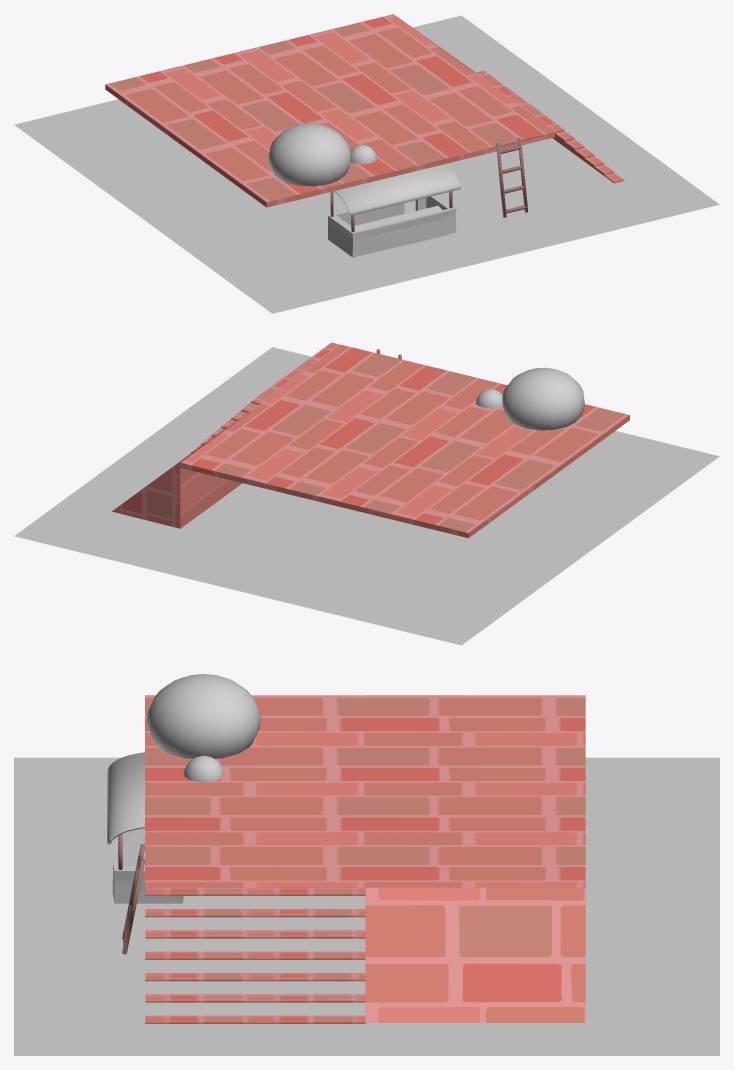
Rendered from TestLevelGround000.dae.
The picture shows the model from 3 angles, top to bottom: view 1: azimuth 30°, elevation 25°; view 2: azimuth 150°, elevation 25°; view 3: azimuth 270°, elevation 25°; orthographic projection. The views are drawn at different scales.
Visible parts, largest first — view 1: Bathtub; view 2: Bathtub; view 3: Bathtub.
Part boxes in pixels (<box>): Bathtub: <box>14,14,719,313</box>; Bathtub: <box>14,342,719,645</box>; Bathtub: <box>14,674,719,1055</box>.
Bounding box in the file's own units: 17.09 × 17.09 × 3.95.
